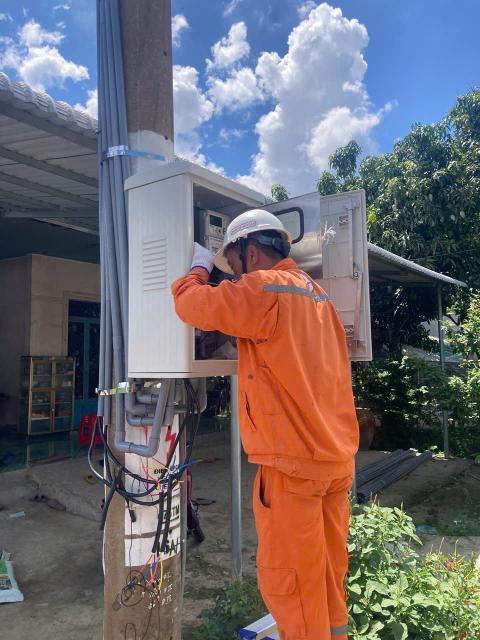gloves: (182, 236, 228, 288)
helmet: (215, 200, 292, 252)
